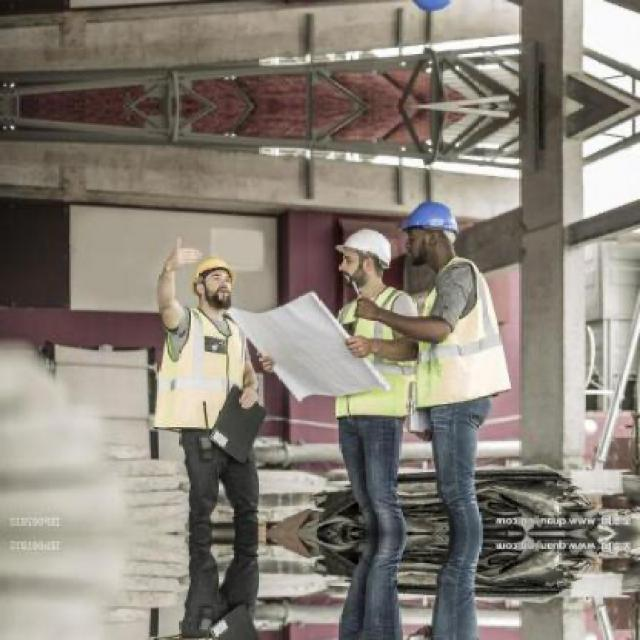2: (398, 197, 497, 532), (155, 250, 263, 532), (323, 225, 414, 524), (154, 535, 263, 639), (397, 535, 497, 639), (323, 543, 415, 638)
helmet: (402, 196, 464, 271), (335, 222, 397, 290), (189, 248, 237, 307), (402, 0, 466, 19)
